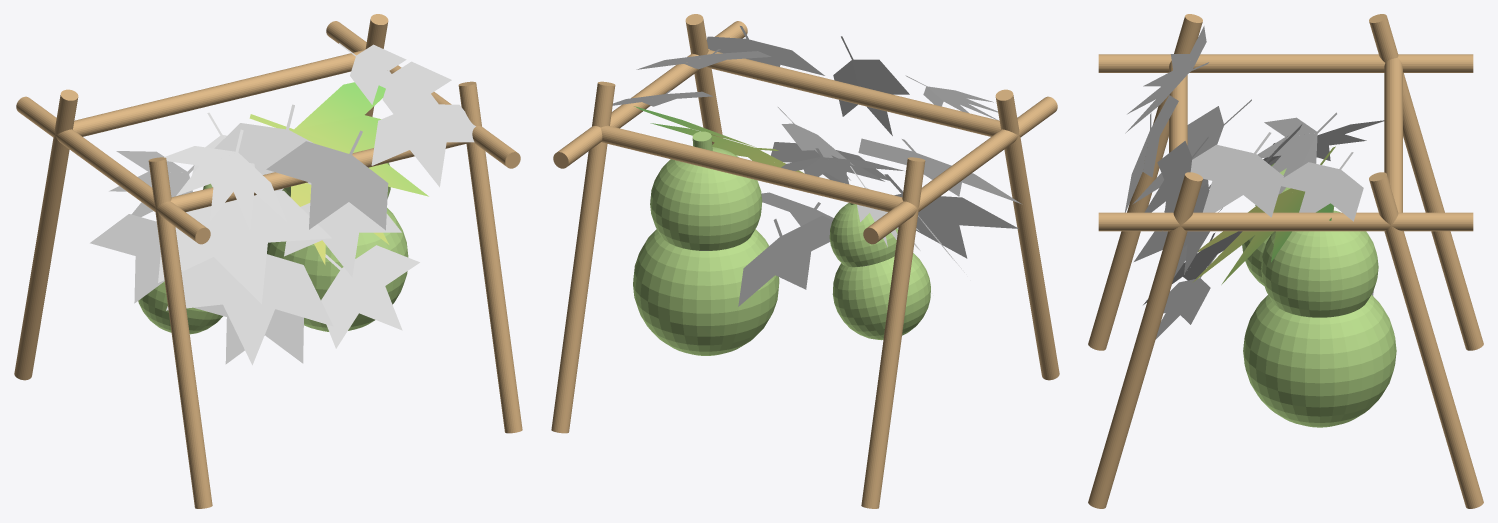
Rendered from gourd.fbx.
The picture shows the model from 3 angles, left to right: view 1: azimuth 30°, elevation 25°; view 2: azimuth 150°, elevation 25°; view 3: azimuth 270°, elevation 25°; orthographic projection. The views are drawn at different scales.
Visible parts, largest first — view 1: Cylinder.002, Plane.012, Plane.001, Plane.011, Plane.003, Plane.013, Plane.002, Plane.009, Sphere.001, Plane.014, Plane.000, Plane.004 (+5 smaller); view 2: Cylinder.002, Sphere.001, Sphere, Plane.010, Plane.001, Plane.011, Plane.012, Plane.002, Plane.003, Plane.016, Plane.000, Plane.009 (+4 smaller); view 3: Cylinder.002, Sphere.001, Plane.006, Plane.007, Plane.003, Plane.016, Plane.002, Plane.009, Plane.013, Plane.012, Plane.011, Plane.008 (+4 smaller).
Part boxes in pixels (left/top/right/bottom): Cylinder.002: left=14, top=14, right=522, bottom=508; Plane.012: left=158, top=182, right=331, bottom=304; Plane.001: left=166, top=254, right=333, bottom=365; Plane.011: left=266, top=130, right=388, bottom=230; Plane.003: left=249, top=82, right=428, bottom=264; Plane.013: left=321, top=245, right=419, bottom=348; Plane.002: left=371, top=80, right=475, bottom=187; Plane.009: left=164, top=129, right=286, bottom=230; Sphere.001: left=267, top=148, right=408, bottom=331; Plane.014: left=90, top=214, right=164, bottom=303; Plane.000: left=284, top=202, right=401, bottom=277; Plane.004: left=214, top=104, right=313, bottom=190; Cylinder.002: left=551, top=14, right=1059, bottom=508; Sphere.001: left=633, top=131, right=779, bottom=355; Sphere: left=829, top=203, right=930, bottom=340; Plane.010: left=738, top=215, right=832, bottom=306; Plane.001: left=884, top=174, right=1018, bottom=258; Plane.011: left=833, top=36, right=909, bottom=135; Plane.012: left=858, top=138, right=1022, bottom=204; Plane.002: left=706, top=26, right=824, bottom=75; Plane.003: left=634, top=106, right=803, bottom=173; Plane.016: left=781, top=148, right=905, bottom=184; Plane.000: left=771, top=142, right=889, bottom=182; Plane.009: left=905, top=75, right=998, bottom=120; Cylinder.002: left=1088, top=14, right=1483, bottom=508; Sphere.001: left=1243, top=206, right=1396, bottom=427; Plane.006: left=1190, top=132, right=1283, bottom=217; Plane.007: left=1281, top=152, right=1363, bottom=221; Plane.003: left=1192, top=146, right=1335, bottom=284; Plane.016: left=1257, top=112, right=1336, bottom=194; Plane.002: left=1144, top=137, right=1208, bottom=231; Plane.009: left=1125, top=26, right=1208, bottom=133; Plane.013: left=1155, top=256, right=1215, bottom=339; Plane.012: left=1132, top=99, right=1251, bottom=211; Plane.011: left=1125, top=95, right=1178, bottom=212; Plane.008: left=1143, top=231, right=1242, bottom=304.
Size of the model in its own units: 441 by 404 by 423.
